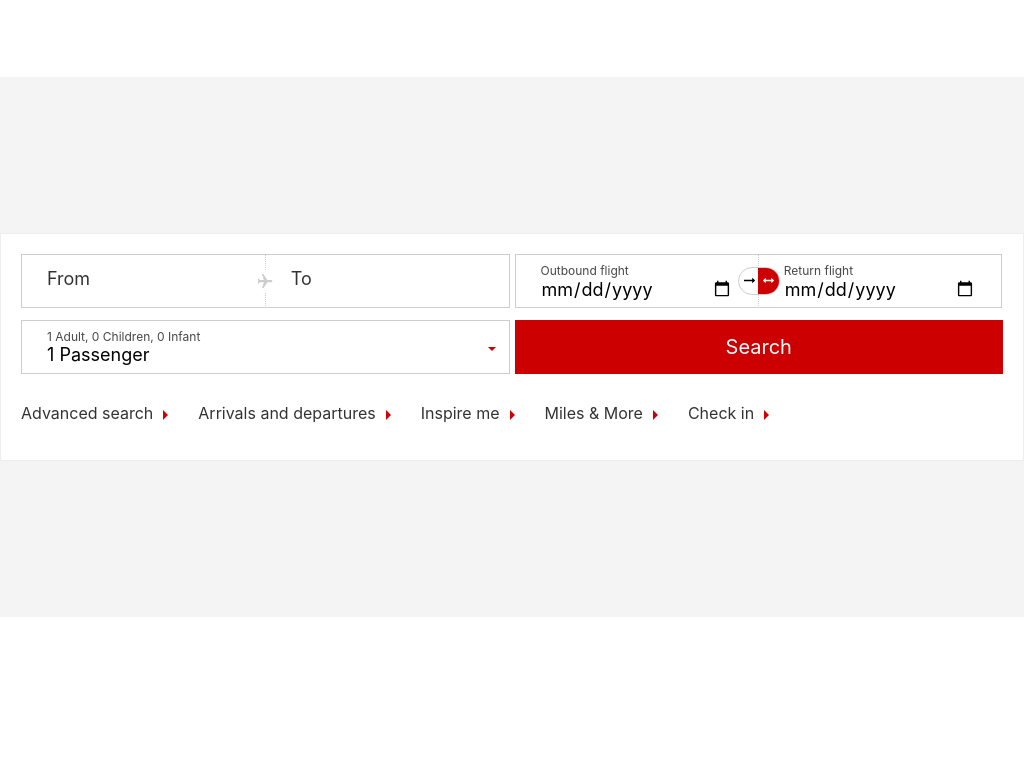
Test case: FlightTab test suite › Switches flight type
Check: the date field labelled "Return flight" is enabled, box [759,255,1001,307]
Check: the date field labelled "Outbound flight" is shown, box [516,255,758,307]
Click the button named "Switch flight type": x=759, y=281 [738,267,780,295]
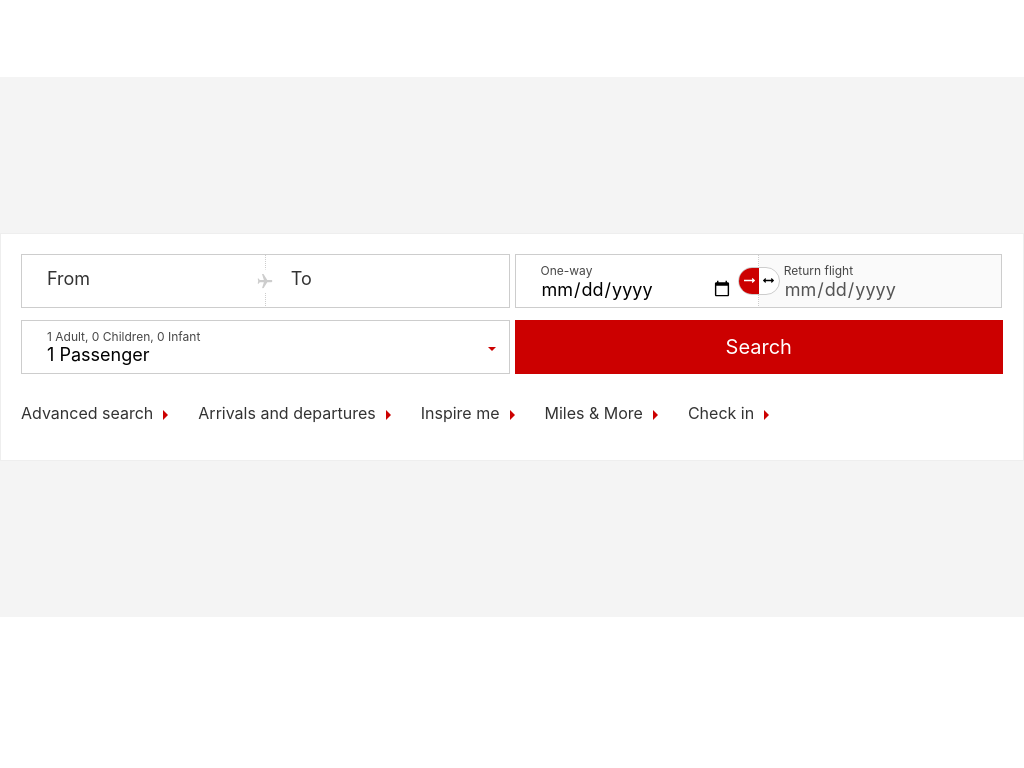
Check: the date field labelled "One-way" is shown, box [516,255,758,307]
Check: the date field labelled "Return flight" is disabled, box [759,255,1001,307]
Check: the label labelled "Outbound flight" is gone
